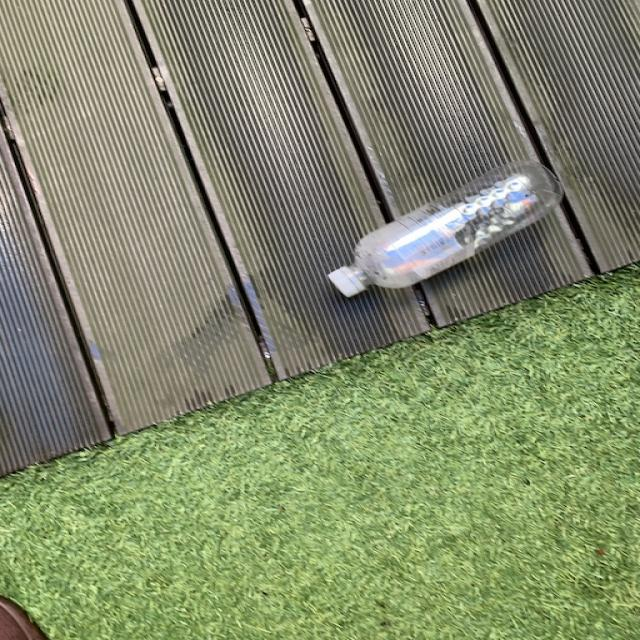Waste: (329, 161, 564, 298)
